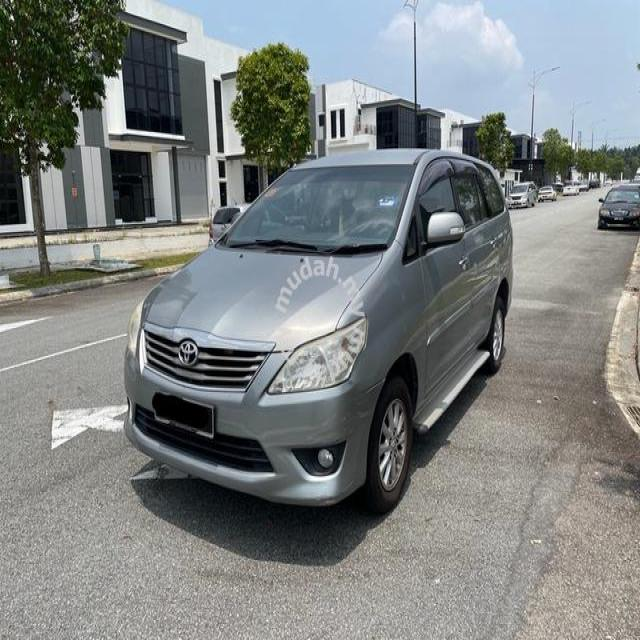light_vehicle: (122, 148, 514, 513)
